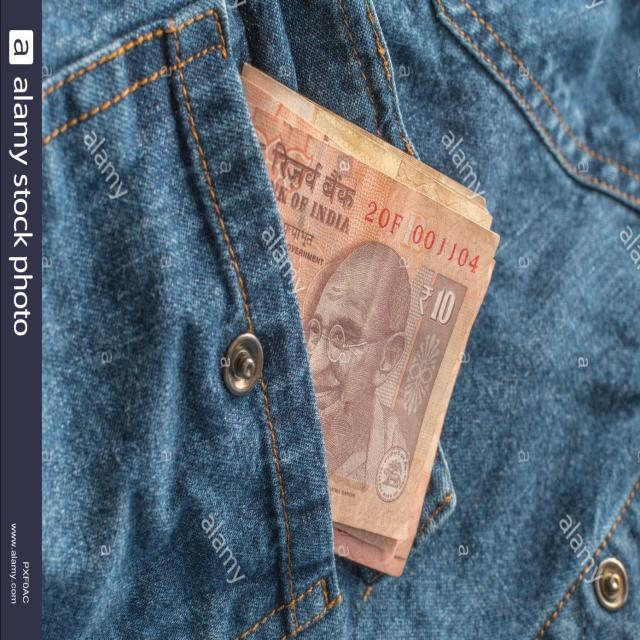10IndianRupees: (256, 70, 492, 544)
